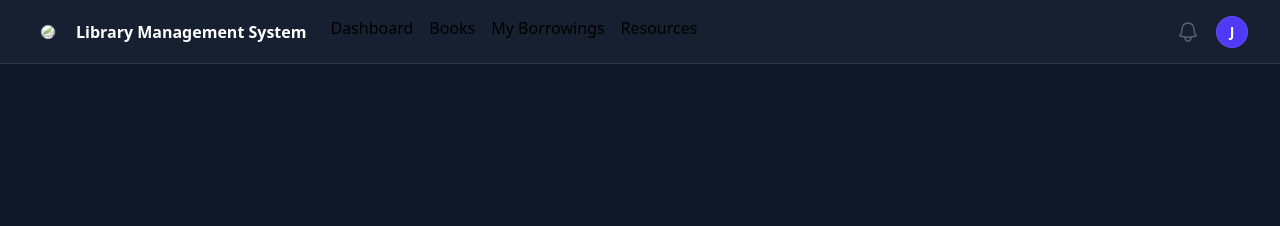
it: NavigationBar › should have profile link in menu
# Wait for auth to load then click profile button
Click the button with test id "profile-menu-button". click: (1232, 32)
box: [1216,16,1248,48]
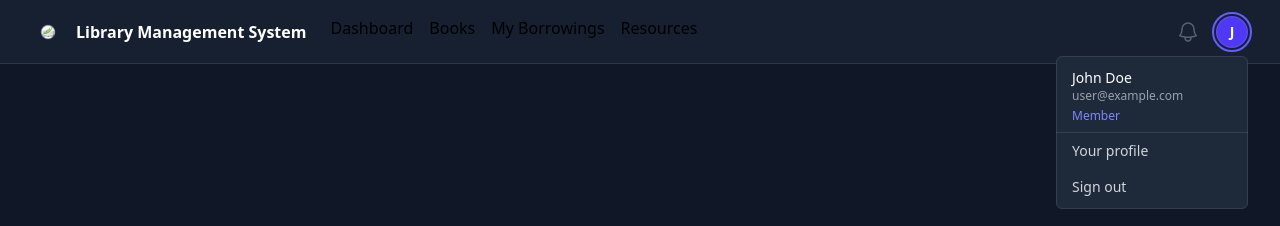
Now the link with test id "profile-link" is shown, box [1072,141,1148,160]
